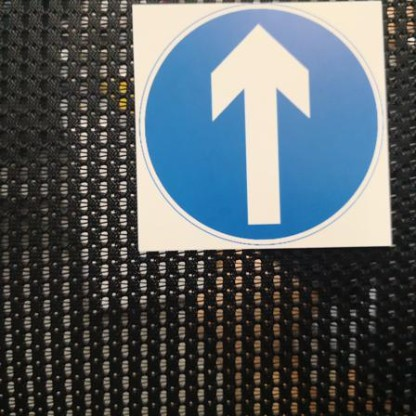forward: (134, 6, 388, 244)
